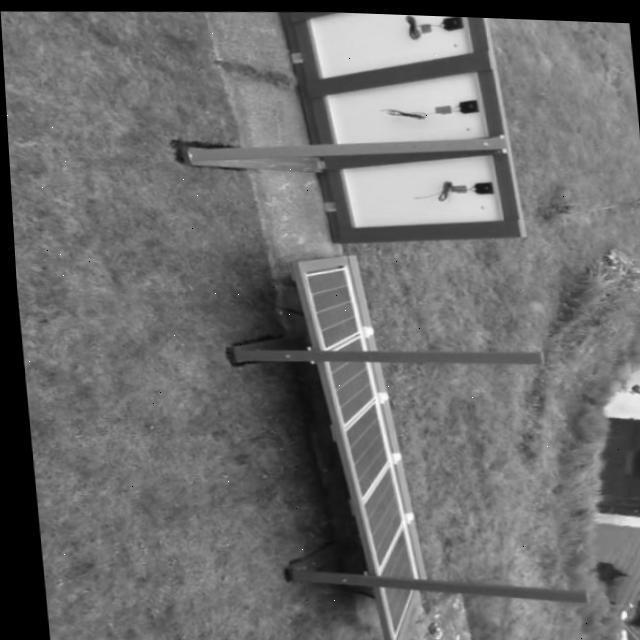Normal Solar Panel: (324, 356, 412, 579), (302, 262, 361, 350), (377, 581, 410, 635)
